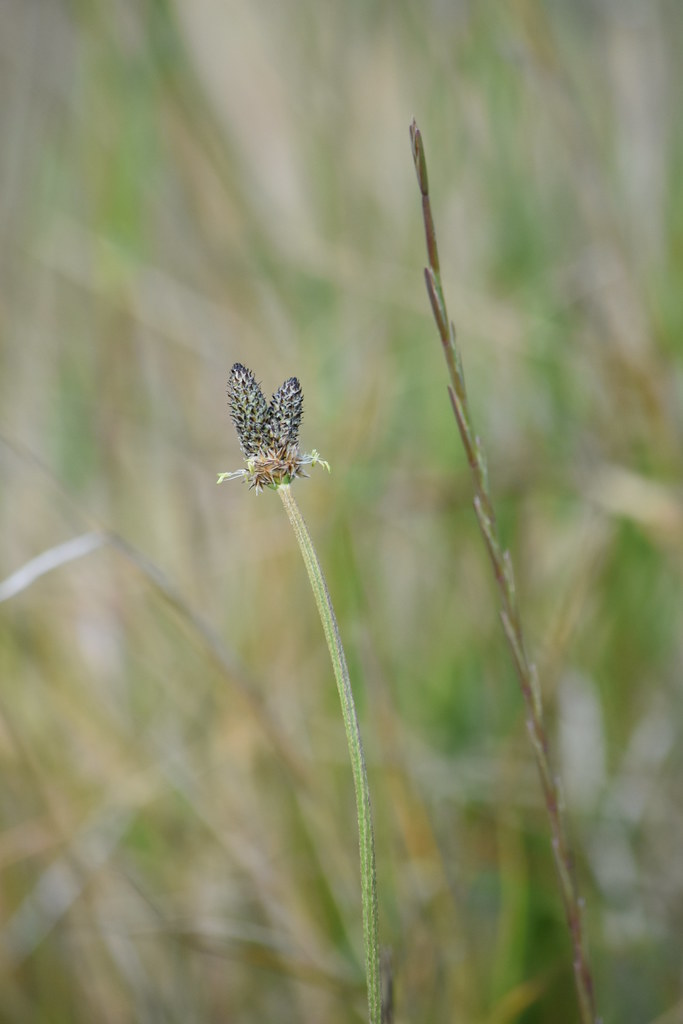buckhorn plantain: (169, 272, 375, 705)
